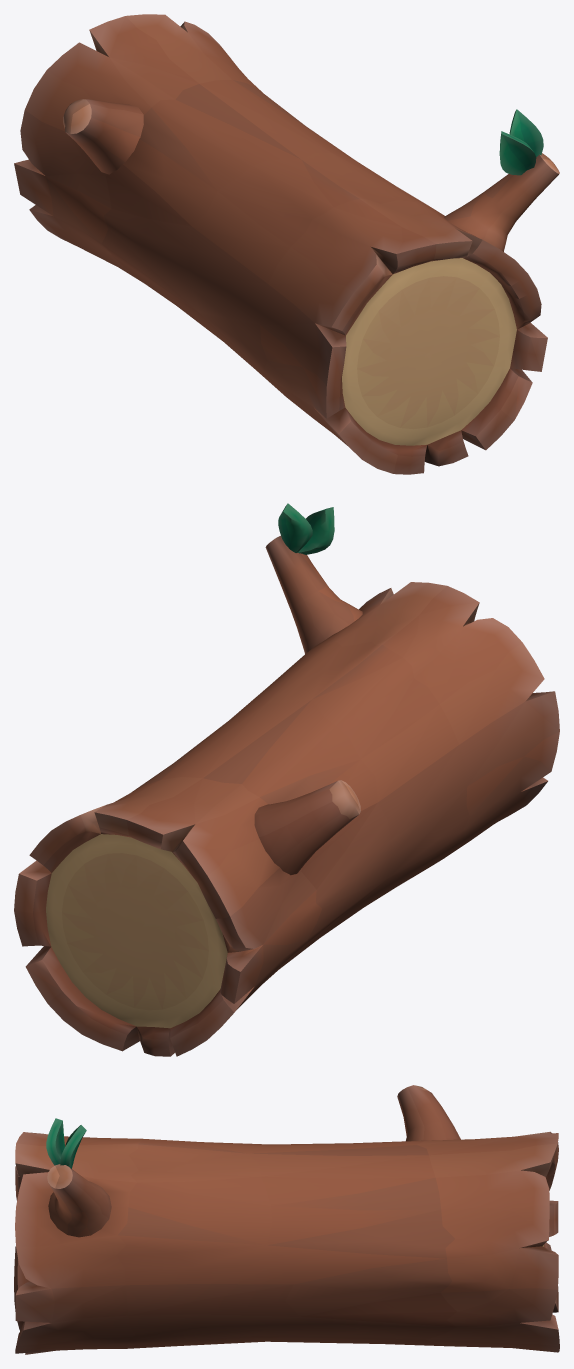
Rendered from prop_log_a.glb.
3 renders of one model, top to bottom at view 1: azimuth 30°, elevation 25°; view 2: azimuth 150°, elevation 25°; view 3: azimuth 270°, elevation 25°, orthographic. The views are drawn at different scales.
Parts seen in each view (by area): view 1: refined; view 2: refined; view 3: refined.
Part boxes in pixels (<box>): refined: <box>14,14,559,474</box>; refined: <box>14,503,559,1056</box>; refined: <box>14,1085,559,1354</box>.
Bounding box in the file's own units: 0.7214 × 0.7334 × 1.35.
